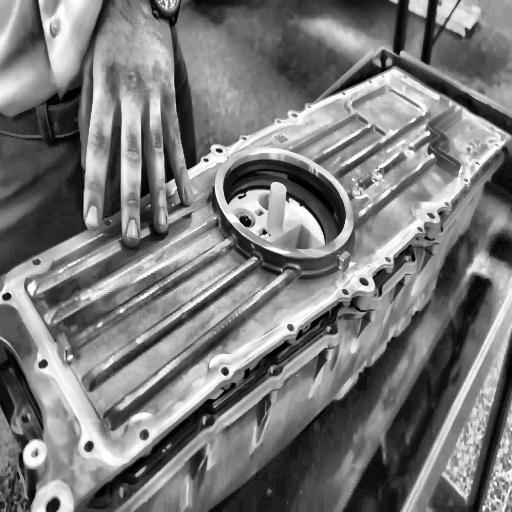bms_unit: (0, 64, 512, 512)
